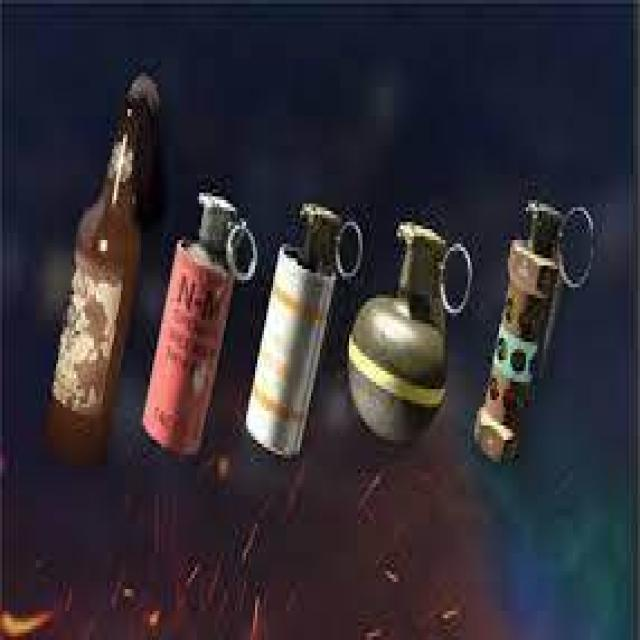grenade: (471, 195, 596, 475), (139, 189, 259, 459), (244, 201, 366, 463), (344, 219, 475, 449)
